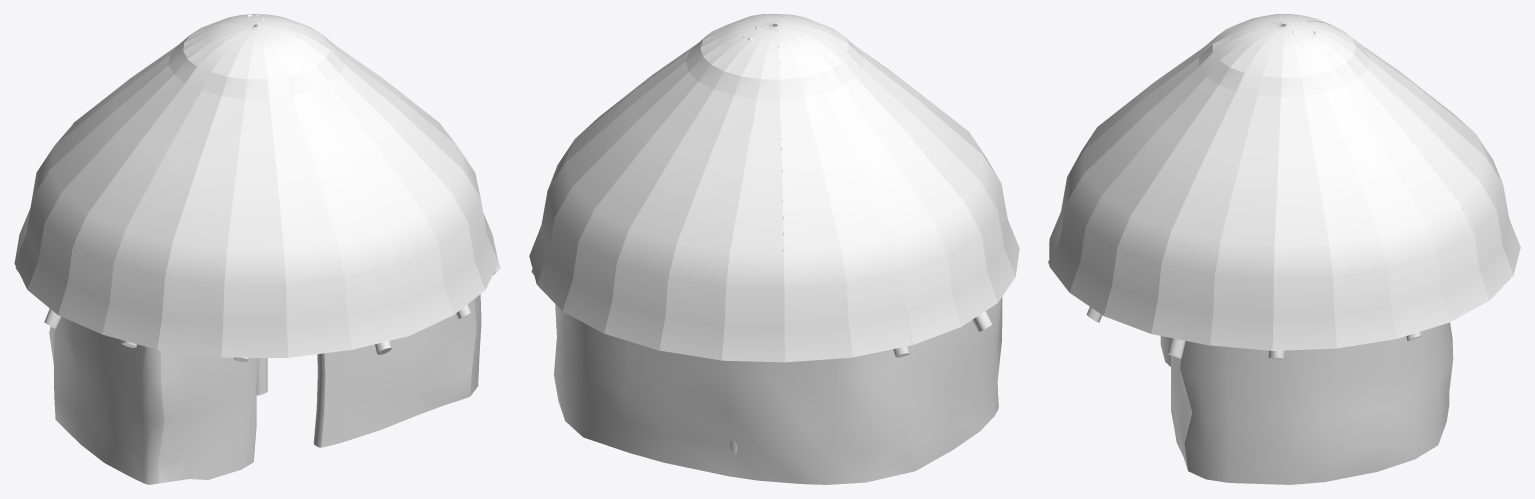
The model's file is Choza.glb.
The picture shows the model from 3 angles, left to right: view 1: azimuth 30°, elevation 25°; view 2: azimuth 150°, elevation 25°; view 3: azimuth 270°, elevation 25°; orthographic projection. The views are drawn at different scales.
Parts seen in each view (by area): view 1: tribe house wall01; view 2: tribe house wall01; view 3: tribe house wall01.
Boxes of the visible parts, x1,y1,x2,y2 form: tribe house wall01: [14, 14, 500, 484]; tribe house wall01: [529, 14, 1019, 484]; tribe house wall01: [1048, 14, 1520, 484].
Size of the model in its own units: 3.9 by 3.37 by 3.87.
3 materials, 2 textured.
